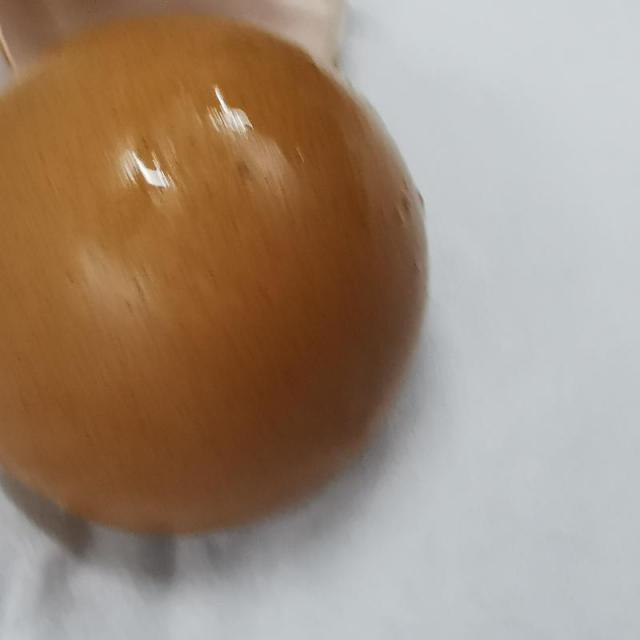egg shell: (5, 12, 429, 534)
